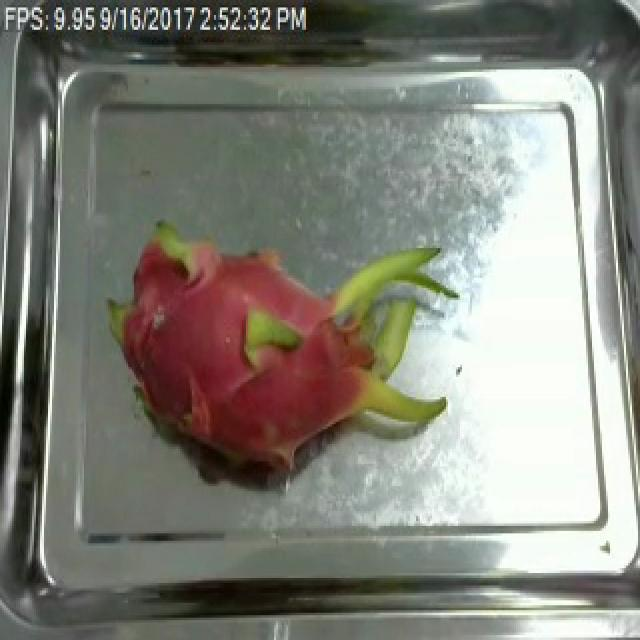fruit: (96, 206, 472, 508)
